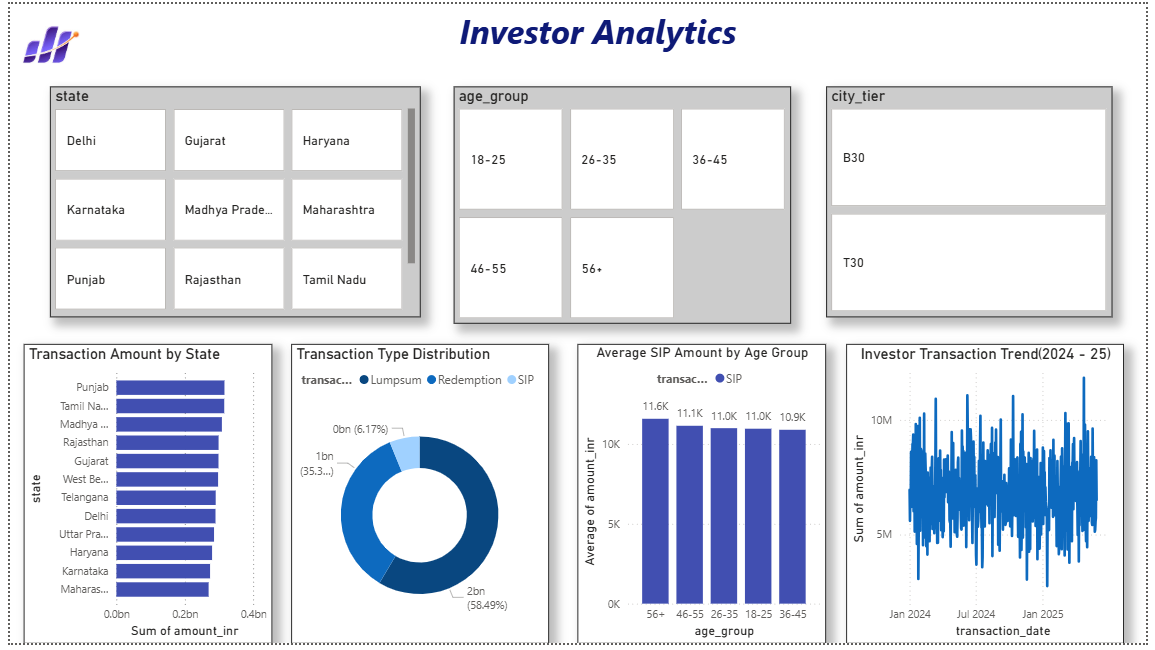

The page's visual inventory and layout, read from the dashboard file:
{"tool":"powerbi","page":{"name":"Page 3 - Investor Analytics","canvas":[1280,720],"ordinal":2},"visuals":[{"type":"clusteredBarChart","title":"Transaction Amount by State","fields":{"Category":["08_investor_transaction_cleaned.state"],"Y":["Sum(08_investor_transaction_cleaned.amount_inr)"]},"box":[14.1,341,282.1,379.5],"z":0},{"type":"donutChart","title":"Transaction Type Distribution","fields":{"Category":["08_investor_transaction_cleaned.transaction_type"],"Y":["Sum(08_investor_transaction_cleaned.amount_inr)"]},"box":[315.4,341,305.1,379.5],"z":1000},{"type":"clusteredColumnChart","title":"Average SIP Amount by Age Group","fields":{"Category":["08_investor_transaction_cleaned.age_group"],"Y":["Avg(08_investor_transaction_cleaned.amount_inr)"],"Series":["08_investor_transaction_cleaned.transaction_type"]},"box":[639.7,341,280.8,379.5],"z":2000},{"type":"lineChart","title":"Investor Transaction Trend(2024 - 25)","fields":{"Y":["Sum(08_investor_transaction_cleaned.amount_inr)"],"Category":["08_investor_transaction_cleaned.transaction_date Hierarchy.transaction_date"]},"box":[943.6,341,312.8,379.5],"z":3000},{"type":"advancedSlicerVisual","fields":{"Values":["08_investor_transaction_cleaned.state"]},"box":[92.3,0,416.7,307.7],"z":4000},{"type":"advancedSlicerVisual","fields":{"Values":["08_investor_transaction_cleaned.age_group"]},"box":[526.9,0,392.3,307.7],"z":5000},{"type":"advancedSlicerVisual","fields":{"Values":["08_investor_transaction_cleaned.city_tier"]},"box":[932.1,0,323.1,307.7],"z":6000},{"type":"image","box":[0,0,91.9,91.9],"z":6002}]}

Visuals, with their boxes in screenshot pixels (x1, y1, x2, y2), scaled from the page's 1280x720 canvas onto the 1155x650 screenshot:
"Transaction Amount by State" clusteredBarChart: (13,308,267,649)
"Transaction Type Distribution" donutChart: (285,308,560,649)
"Average SIP Amount by Age Group" clusteredColumnChart: (577,308,831,649)
"Investor Transaction Trend(2024 - 25)" lineChart: (851,308,1134,649)
advancedSlicerVisual - 08_investor_transaction_cleaned.state: (83,0,459,278)
advancedSlicerVisual - 08_investor_transaction_cleaned.age_group: (475,0,829,278)
advancedSlicerVisual - 08_investor_transaction_cleaned.city_tier: (841,0,1133,278)
image: (0,0,83,83)
